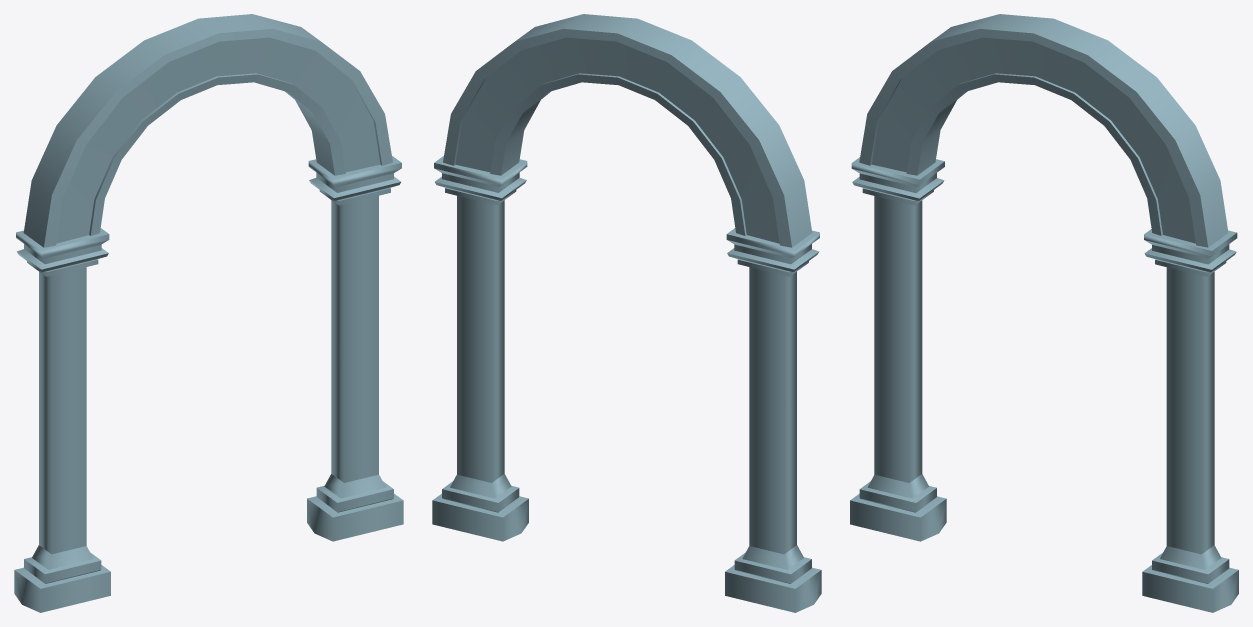
Rendered from LOD_Archway_1.FBX.
The picture shows the model from 3 angles, left to right: view 1: azimuth 30°, elevation 25°; view 2: azimuth 150°, elevation 25°; view 3: azimuth 330°, elevation 25°; orthographic projection.
Parts seen in each view (by area): view 1: Archway_1_LOD0; view 2: Archway_1_LOD0; view 3: Archway_1_LOD0.
Boxes of the visible parts, box(x1,y1,x2,y2) form: Archway_1_LOD0: box(14, 14, 403, 612); Archway_1_LOD0: box(432, 14, 821, 612); Archway_1_LOD0: box(850, 14, 1238, 612).
Bounding box in the file's own units: 927 × 112 × 1263.
